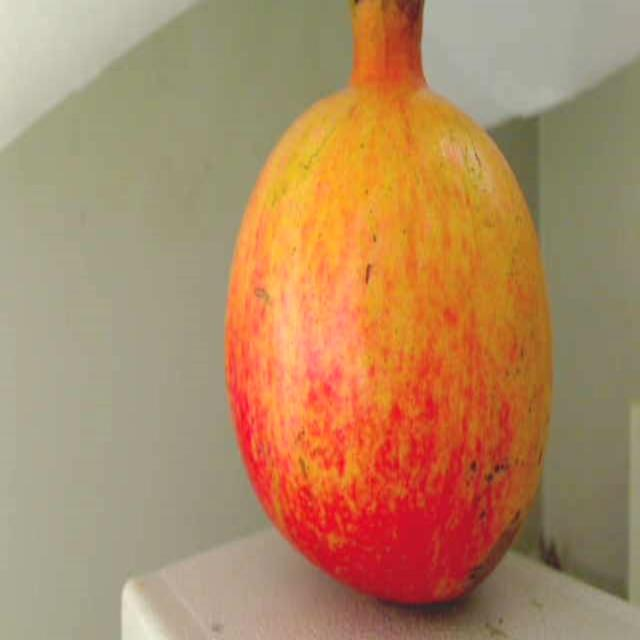pomegranate: (214, 0, 560, 640)
